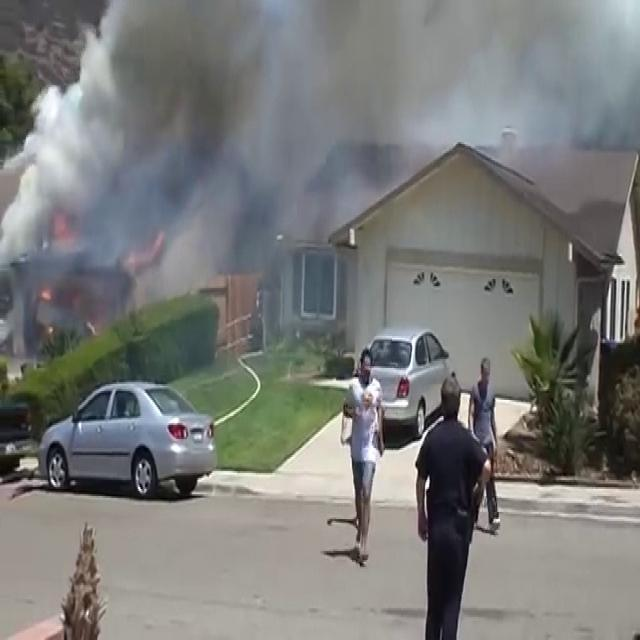Smoke: (12, 0, 640, 258)
